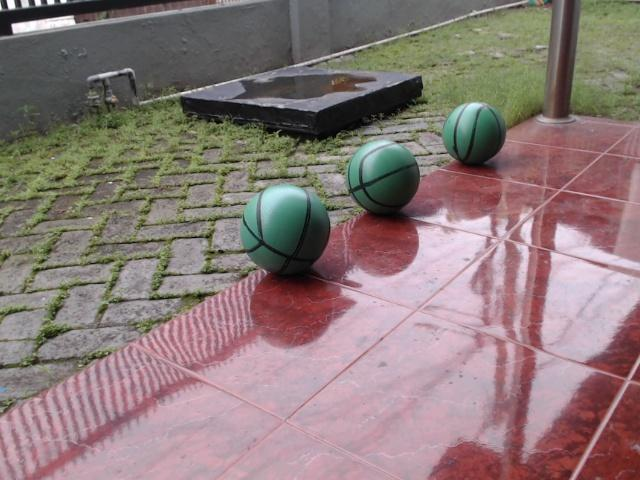Sports-Ball: (238, 182, 331, 278), (342, 135, 422, 213), (442, 93, 508, 169)
